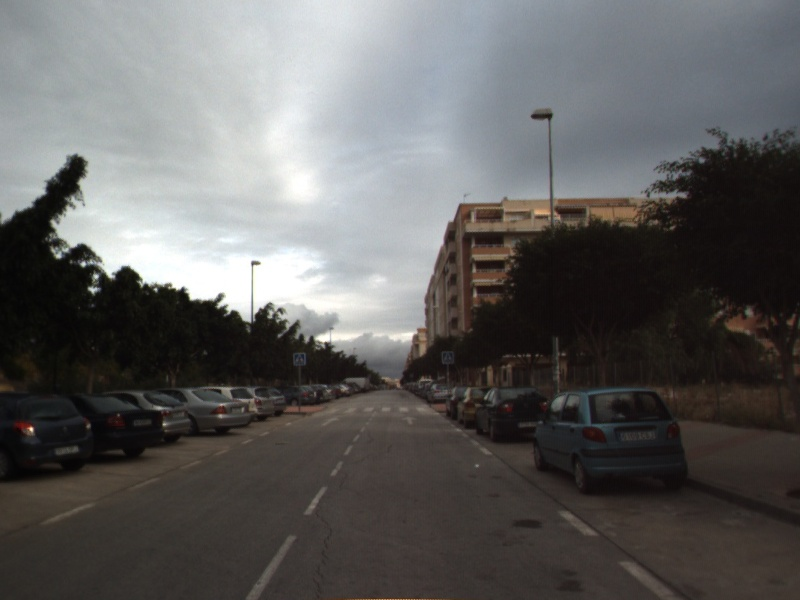STRAIGHT: (319, 415, 342, 428), (400, 414, 419, 426)
